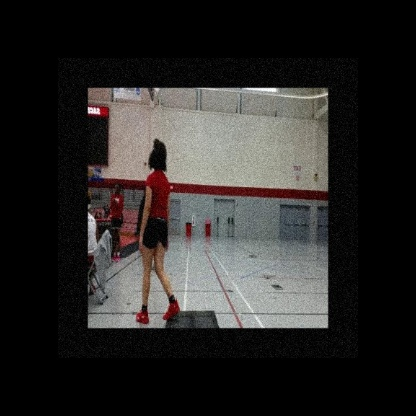lateral_flexion_right: (135, 133, 182, 328)
stance_width_broad: (135, 165, 182, 328)
